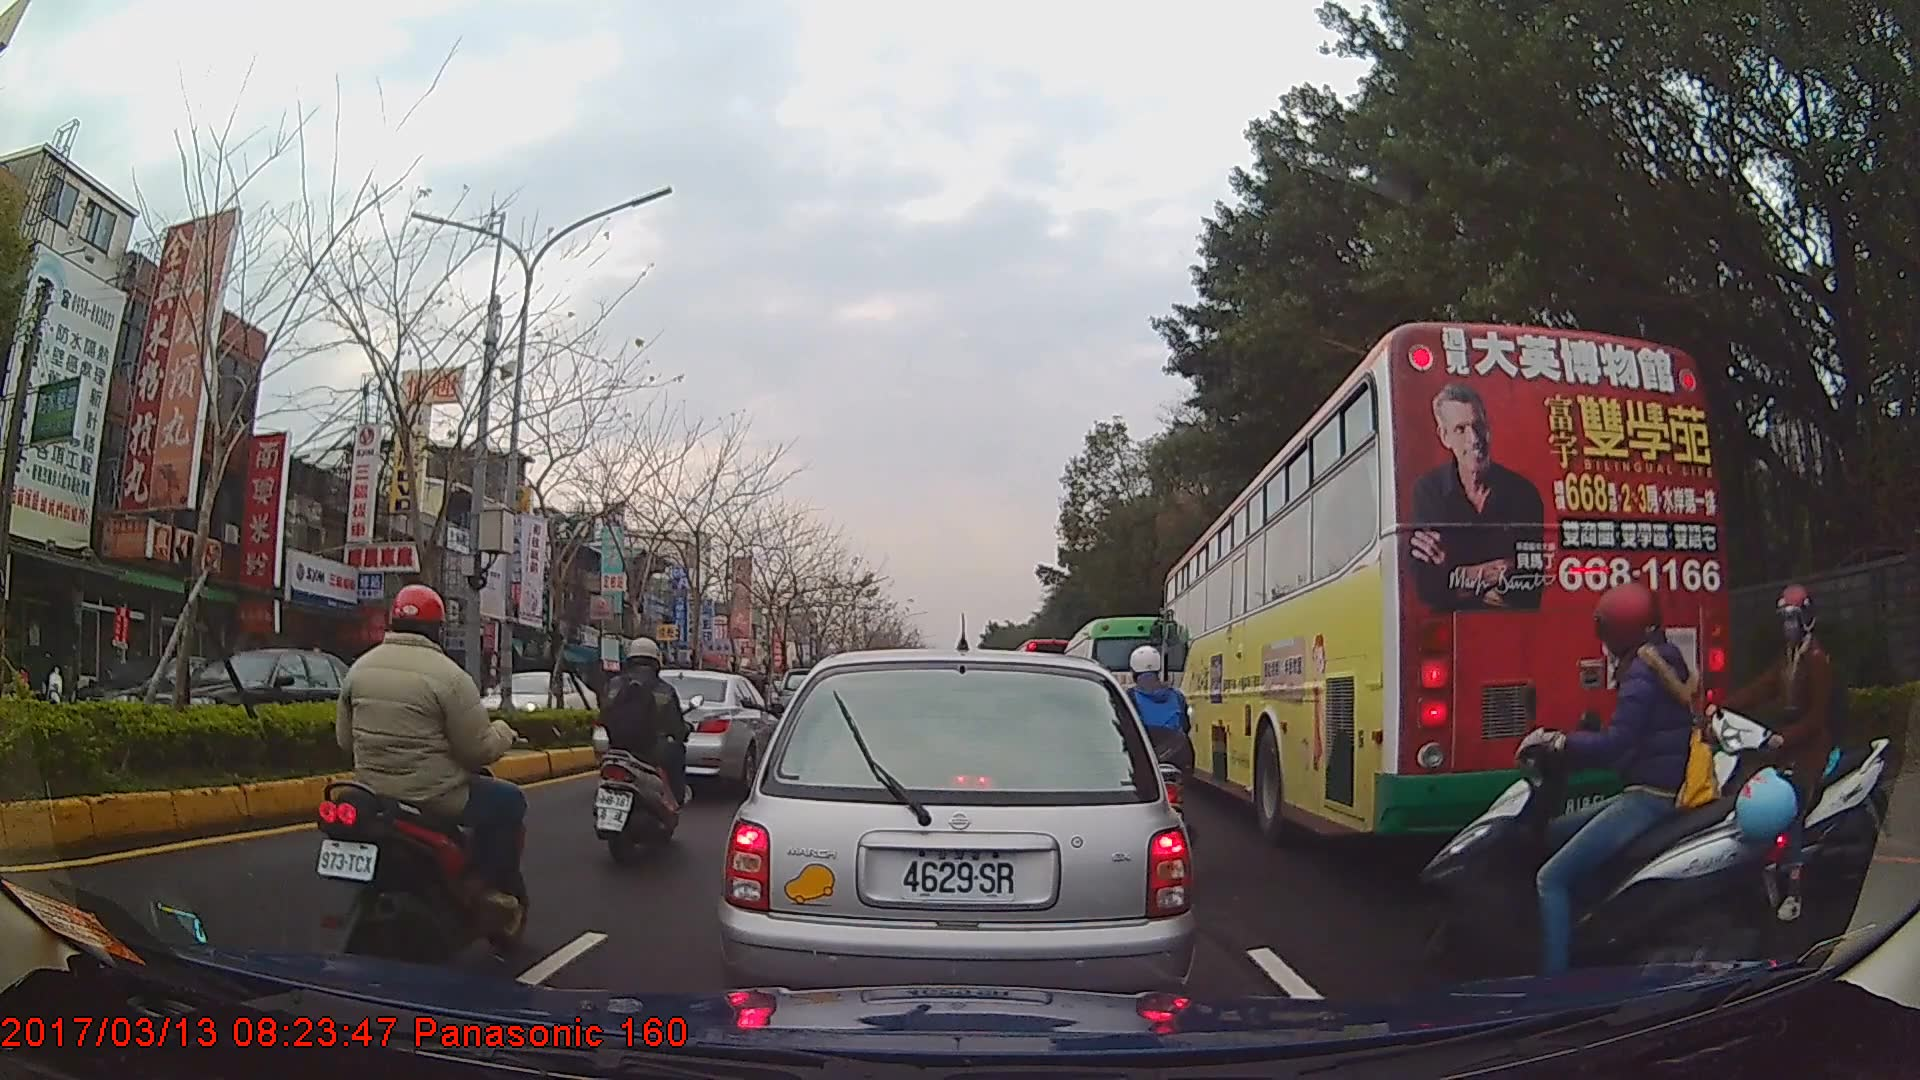rider: (1415, 586, 1803, 1008), (310, 584, 528, 979), (1680, 581, 1885, 922), (594, 635, 692, 864), (1119, 642, 1194, 836)
vehicle: (1160, 319, 1727, 848), (719, 648, 1190, 1025), (107, 643, 385, 753), (64, 651, 338, 737), (593, 668, 777, 795), (1058, 616, 1187, 765), (461, 663, 596, 735)
